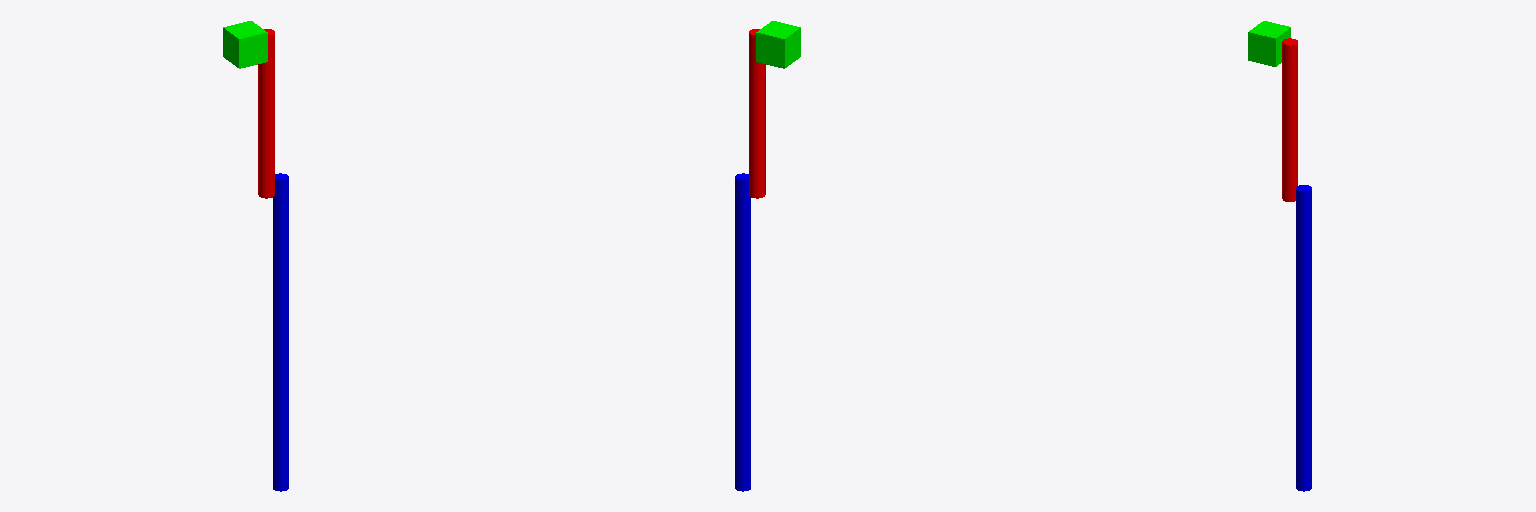
The robot description file, URDF, robot "DoublePendulum":
<?xml version="1.0"?>

<robot name="DoublePendulum">
  <link name="base_link">
    <visual>
      <geometry>
         <box size=".2 .2 .2" />
      </geometry>
      <material name="green">
	       <color rgba="0 1 0 1" />
      </material>
    </visual>
  </link>

  <link name="upper_link">
    <inertial>
      <origin xyz="0 0 -.5" rpy="0 0 0" />
      <mass value="1" />
      <inertia ixx="1" ixy="0" ixz="0" iyy="0.083" iyz="0" izz="1" />
    </inertial>
    <visual>
      <origin xyz="0 0 -.5" rpy="0 0 0" />
      <geometry>
         <cylinder length="1.1" radius=".05" />
      </geometry>
      <material name="red">
	       <color rgba="1 0 0 1" />
      </material>
    </visual>
  </link>

  <link name="lower_link">
    <inertial>
      <origin xyz="0 0 -1" rpy="0 0 0" />
      <mass value="1" />
      <inertia ixx="1" ixy="0" ixz="0" iyy="0.33" iyz="0" izz="1" />
    </inertial>
    <visual>
      <origin xyz="0 0 -1" rpy="0 0 0" />
      <geometry>
         <cylinder length="2.1" radius=".05" />
      </geometry>
      <material name="blue">
	       <color rgba="0 0 1 1" />
      </material>
    </visual>
  </link>

  <joint name="shoulder" type="continuous">
    <parent link="base_link" />
    <child link="upper_link" />
    <origin xyz=".15 0 0" />
    <axis xyz="1 0 0" />
    <dynamics damping="0.1" />
  </joint>

  <joint name="elbow" type="continuous">
    <parent link="upper_link" />
    <child link="lower_link" />
    <origin xyz=".1 0 -1" />
    <axis xyz="1 0 0" />
    <dynamics damping="0.1" />
  </joint>
</robot>

--- Facts derived from the render (not from the file) ---
3 views of the same robot in one strip: view 1: azimuth 30°, elevation 25°; view 2: azimuth 150°, elevation 25°; view 3: azimuth 330°, elevation 25° (orthographic).
Robot: DoublePendulum — 3 links, 2 joints (2 continuous); root link base_link; default pose: all joints at 0.
Links seen in each view (by area): view 1: lower_link, upper_link, base_link; view 2: lower_link, upper_link, base_link; view 3: lower_link, upper_link, base_link.
Boxes of the visible links, x1,y1,x2,y2 form: lower_link: (273, 173, 288, 491); upper_link: (258, 29, 274, 198); base_link: (223, 21, 267, 68); lower_link: (735, 173, 750, 491); upper_link: (749, 29, 765, 198); base_link: (756, 21, 800, 68); lower_link: (1296, 185, 1311, 491); upper_link: (1282, 38, 1297, 201); base_link: (1248, 21, 1290, 66).
Bounding box of the posed robot: 0.4 × 0.2 × 3.15 m (x, y, z).
Geometry: primitives only (box / cylinder / sphere), no mesh files.
